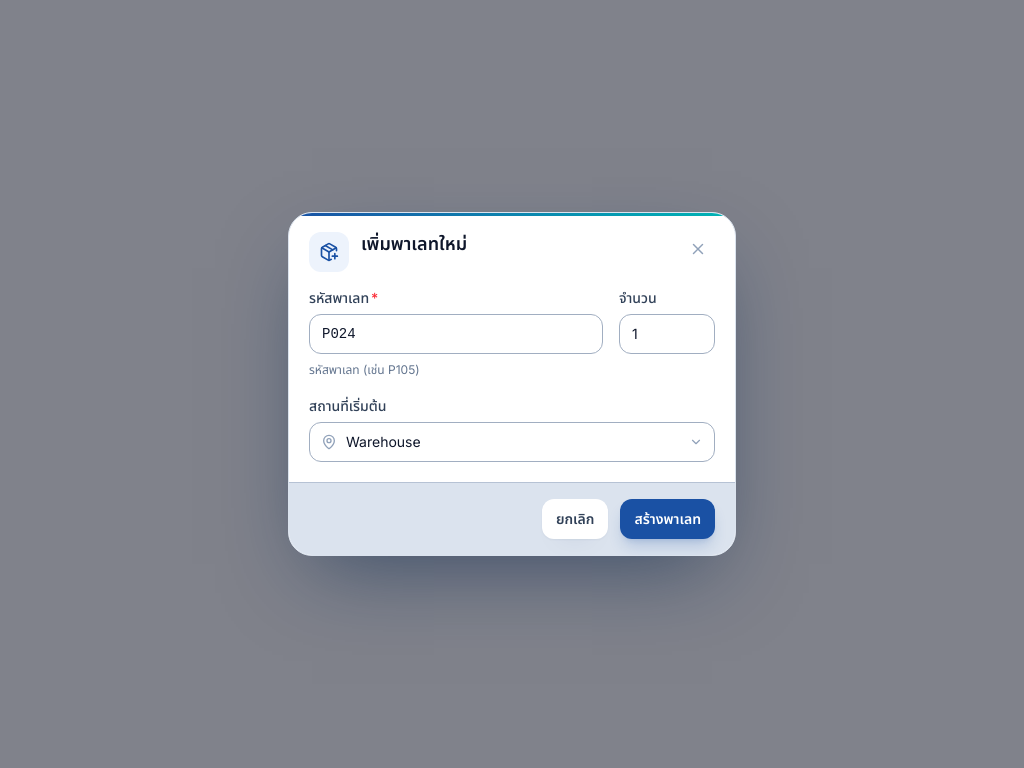
AddPalletModal › ตัวอย่างช่วงอัปเดตตามจำนวนที่กรอก
Check: the field labelled "รหัสพาเลท" holds "P024", box [309,314,603,354]
Replace the text in the number field labelled "จำนวน" with "20": (667, 334) [619,314,715,354]
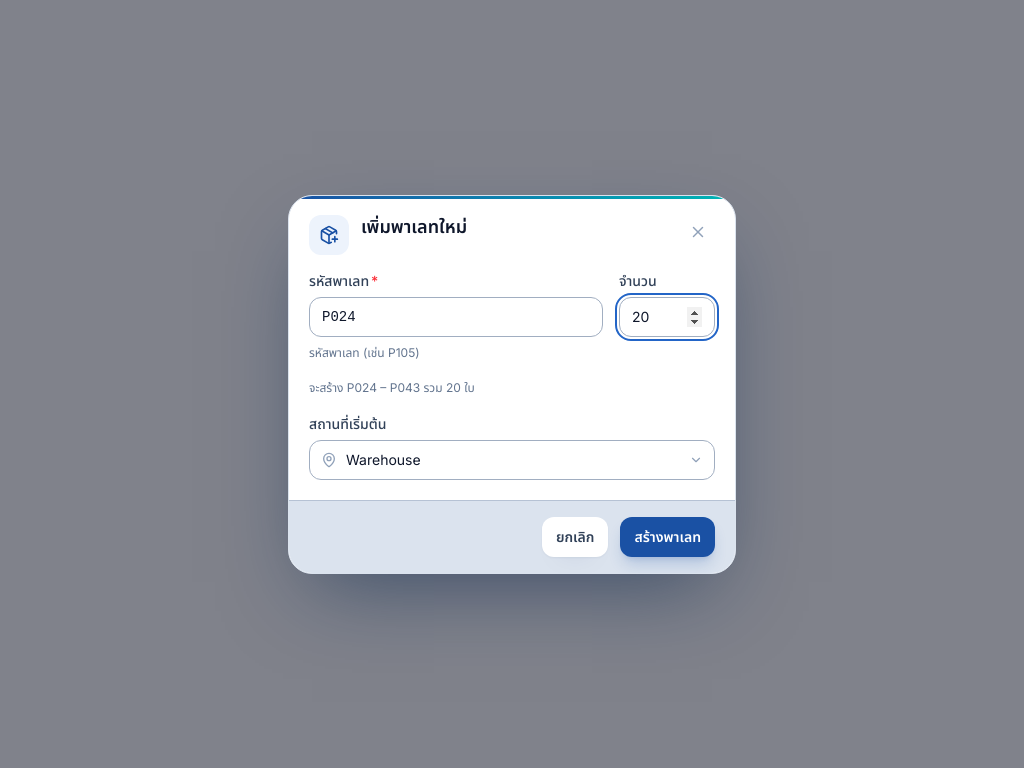
Check: the text "จะสร้าง P024 – P043 รวม 20 ใบ" is shown, box [309,380,475,395]
